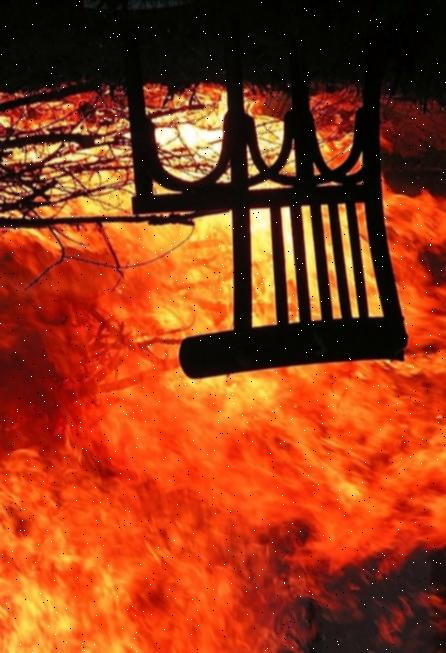fire: (0, 82, 178, 652), (177, 382, 446, 653)
